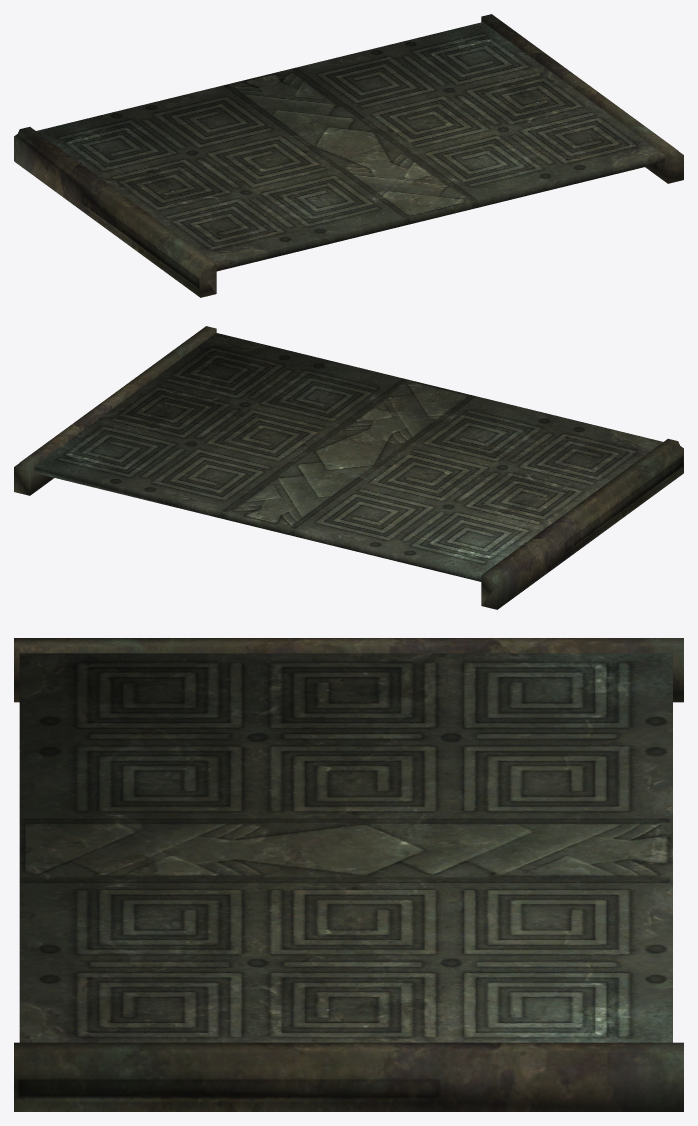
Rendered from ramp.obj.
3 renders of one model, top to bottom at view 1: azimuth 30°, elevation 25°; view 2: azimuth 150°, elevation 25°; view 3: azimuth 270°, elevation 25°, orthographic. The views are drawn at different scales.
Visible parts, largest first — view 1: ramp; view 2: ramp; view 3: ramp.
Boxes of the visible parts, x1=… form: ramp: x1=14, y1=14, x2=683, y2=297; ramp: x1=14, y1=326, x2=683, y2=609; ramp: x1=14, y1=638, x2=683, y2=1111.
Bounding box in the file's own units: 181 × 11 × 121.
Materials: 1 (1 with a texture image).
